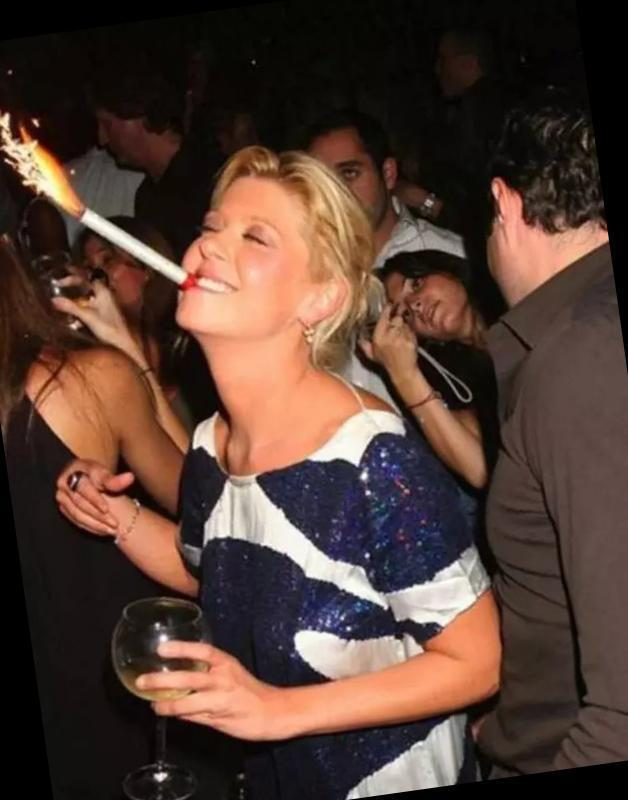Drunk: (177, 184, 312, 341)
